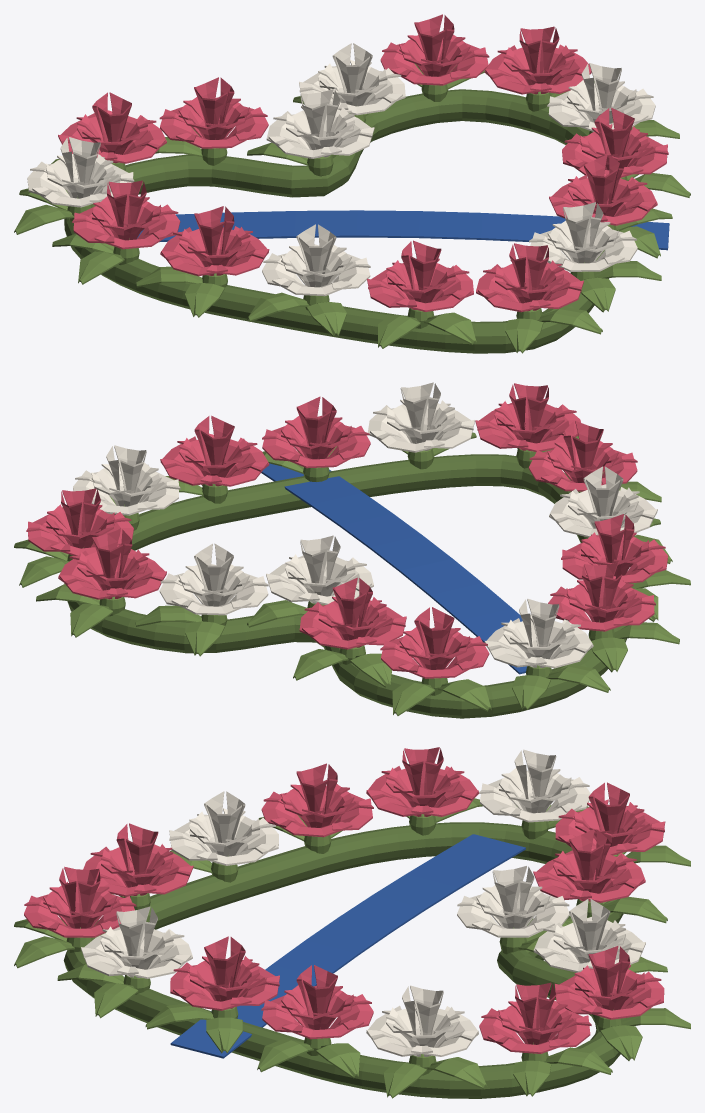
3 views of the same model, one above another, from view 1: azimuth 30°, elevation 25°; view 2: azimuth 150°, elevation 25°; view 3: azimuth 270°, elevation 25° (orthographic). The views are drawn at different scales.
Parts seen in each view (by area): view 1: Generic continuous hidden backing ring, Plain integrated diagonal ribbon, Flower 07 attached leaf 1, Flower 03 attached leaf 1, Flower 04 attached leaf 1, Flower 06 attached leaf -1, Flower 08 attached leaf -1, Flower 05 attached leaf 1, Flower 06 attached leaf 1, Flower 08 attached leaf 1, Flower 07 attached leaf -1, Flower 09 attached leaf -1 (+59 smaller); view 2: Generic continuous hidden backing ring, Plain integrated diagonal ribbon, Flower 02 attached leaf 1, Flower 01 attached leaf -1, Flower 03 attached leaf 1, Flower 15 attached leaf 1, Flower 02 attached leaf -1, Flower 03 attached leaf -1, Flower 14 attached leaf 1, Flower 04 attached leaf -1, Flower 00 attached leaf -1, Flower 04 attached leaf 1 (+55 smaller); view 3: Generic continuous hidden backing ring, Plain integrated diagonal ribbon, Flower 12 attached leaf 1, Flower 11 attached leaf -1, Flower 08 attached leaf 1, Flower 13 attached leaf -1, Flower 10 attached leaf 1, Flower 09 attached leaf 1, Flower 14 attached leaf -1, Flower 11 attached leaf 1, Flower 13 attached leaf 1, Flower 12 attached leaf -1 (+61 smaller).
Part boxes in pixels (left/top/right/bottom): Generic continuous hidden backing ring: left=64, top=89, right=608, bottom=353; Plain integrated diagonal ribbon: left=137, top=210, right=669, bottom=250; Flower 07 attached leaf 1: left=424, top=312, right=476, bottom=344; Flower 03 attached leaf 1: left=14, top=204, right=74, bottom=234; Flower 04 attached leaf 1: left=78, top=251, right=124, bottom=284; Flower 06 attached leaf -1: left=247, top=292, right=309, bottom=321; Flower 08 attached leaf -1: left=505, top=318, right=543, bottom=353; Flower 05 attached leaf 1: left=185, top=283, right=224, bottom=317; Flower 06 attached leaf 1: left=306, top=302, right=346, bottom=336; Flower 08 attached leaf 1: left=538, top=307, right=602, bottom=334; Flower 07 attached leaf -1: left=378, top=315, right=420, bottom=348; Flower 09 attached leaf -1: left=580, top=277, right=615, bottom=312; Generic continuous hidden backing ring: left=64, top=454, right=626, bottom=718; Plain integrated diagonal ribbon: left=261, top=463, right=526, bottom=674; Flower 02 attached leaf 1: left=438, top=679, right=491, bottom=711; Flower 01 attached leaf -1: left=293, top=649, right=348, bottom=680; Flower 03 attached leaf 1: left=547, top=664, right=610, bottom=692; Flower 15 attached leaf 1: left=185, top=621, right=224, bottom=656; Flower 02 attached leaf -1: left=392, top=682, right=435, bottom=715; Flower 03 attached leaf -1: left=512, top=675, right=550, bottom=709; Flower 14 attached leaf 1: left=70, top=604, right=112, bottom=637; Flower 04 attached leaf -1: left=591, top=637, right=627, bottom=672; Flower 00 attached leaf -1: left=247, top=600, right=307, bottom=627; Flower 04 attached leaf 1: left=613, top=622, right=679, bottom=644; Generic continuous hidden backing ring: left=63, top=822, right=625, bottom=1098; Plain integrated diagonal ribbon: left=170, top=834, right=525, bottom=1058; Flower 12 attached leaf 1: left=427, top=1057, right=487, bottom=1089; Flower 11 attached leaf -1: left=257, top=1039, right=313, bottom=1072; Flower 08 attached leaf 1: left=14, top=936, right=74, bottom=968; Flower 13 attached leaf -1: left=513, top=1060, right=551, bottom=1096; Flower 10 attached leaf 1: left=206, top=1017, right=242, bottom=1053; Flower 09 attached leaf 1: left=94, top=983, right=138, bottom=1018; Flower 14 attached leaf -1: left=600, top=1025, right=642, bottom=1060; Flower 11 attached leaf 1: left=316, top=1043, right=360, bottom=1078; Flower 13 attached leaf 1: left=544, top=1047, right=612, bottom=1074; Flower 12 attached leaf -1: left=383, top=1063, right=426, bottom=1098.
Size of the model in its own units: 0.5225 by 0.0827 by 0.4923.
